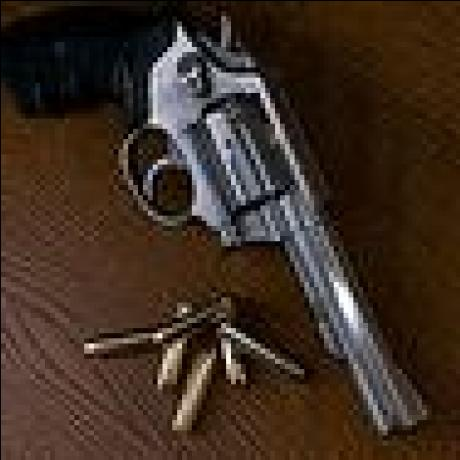weapon: (10, 6, 423, 442)
